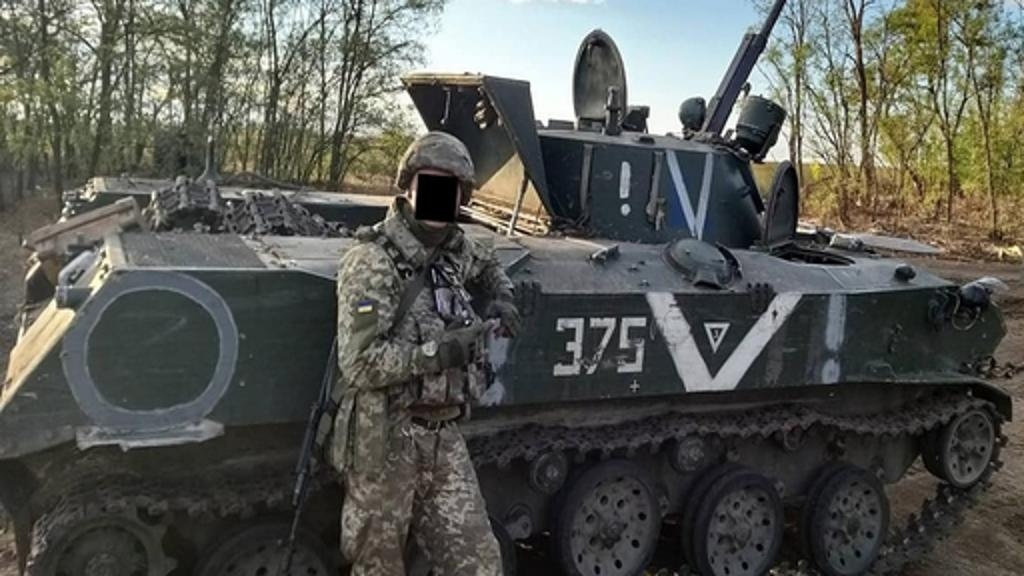APC-IFV: (0, 70, 1006, 572)
